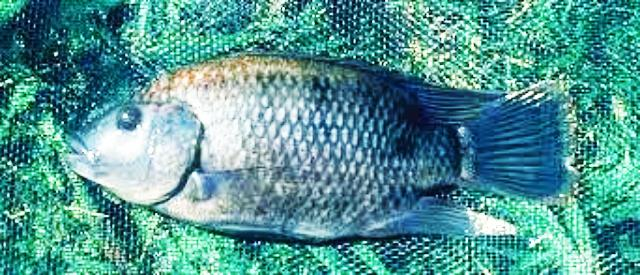Healthy Fish: (62, 52, 580, 247)
